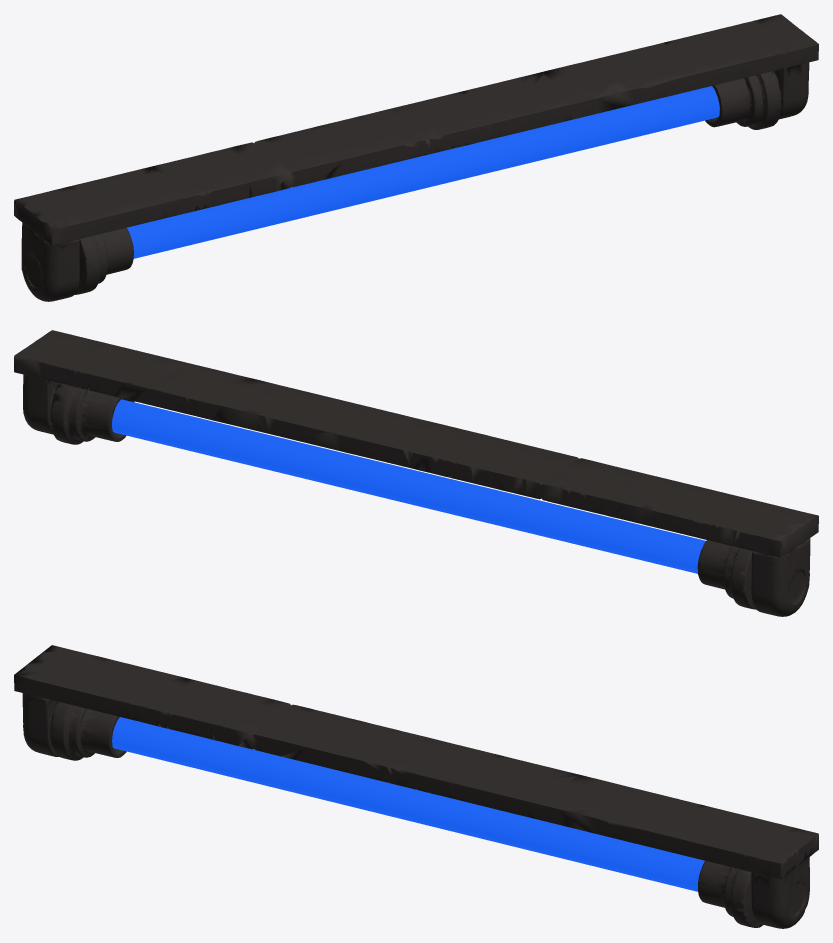
File: Lampa_na_stenu.glb
The picture shows the model from 3 angles, top to bottom: view 1: azimuth 30°, elevation 25°; view 2: azimuth 150°, elevation 25°; view 3: azimuth 330°, elevation 25°; orthographic projection.
Parts seen in each view (by area): view 1: Object_3, Object_2; view 2: Object_3, Object_2; view 3: Object_3, Object_2.
Part boxes in pixels (x1,y1,x2,y2): Object_3: (14,14,818,301); Object_2: (127,86,719,258); Object_3: (14,330,818,616); Object_2: (112,399,705,573); Object_3: (14,645,818,928); Object_2: (112,717,704,891).
Size of the model in its own units: 59.22 by 6.59 by 5.21.
